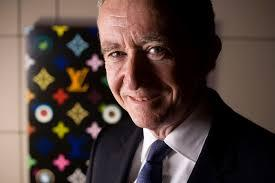Persons: (89, 0, 235, 139)
